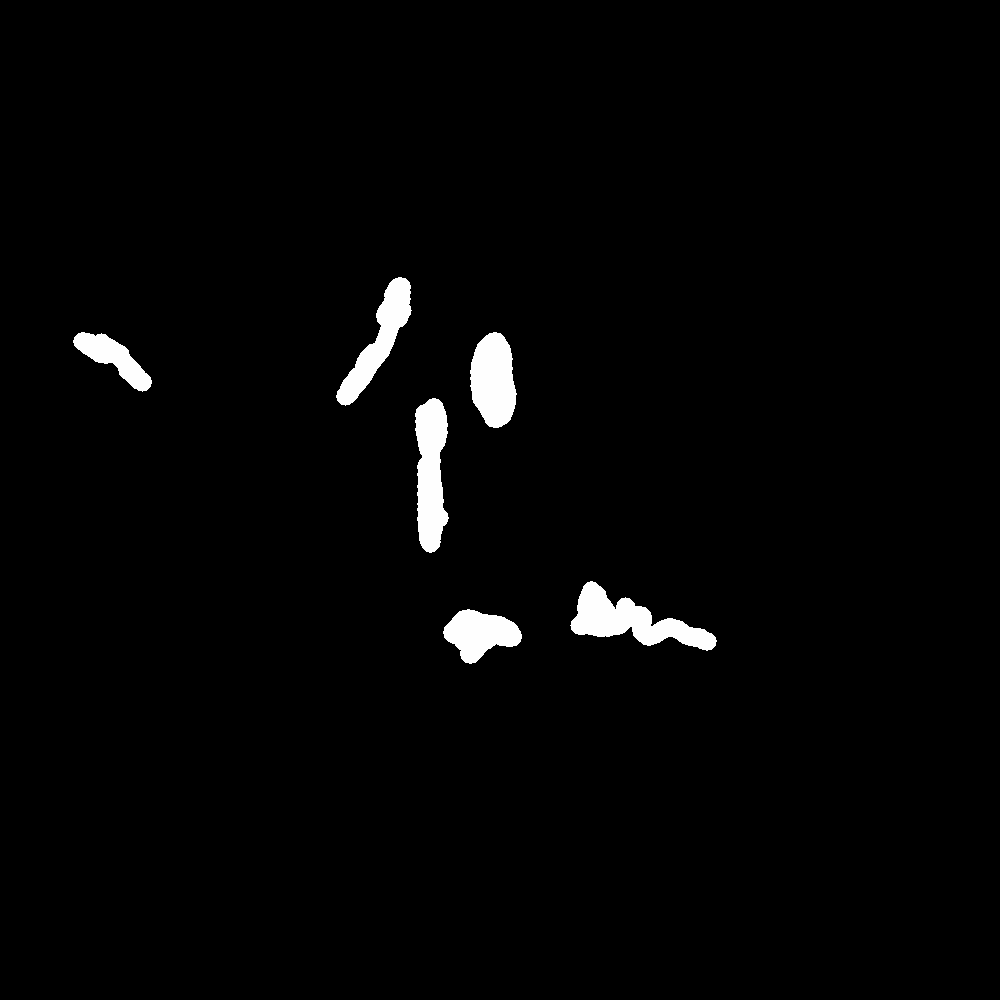illegal: (400, 390, 453, 559)
